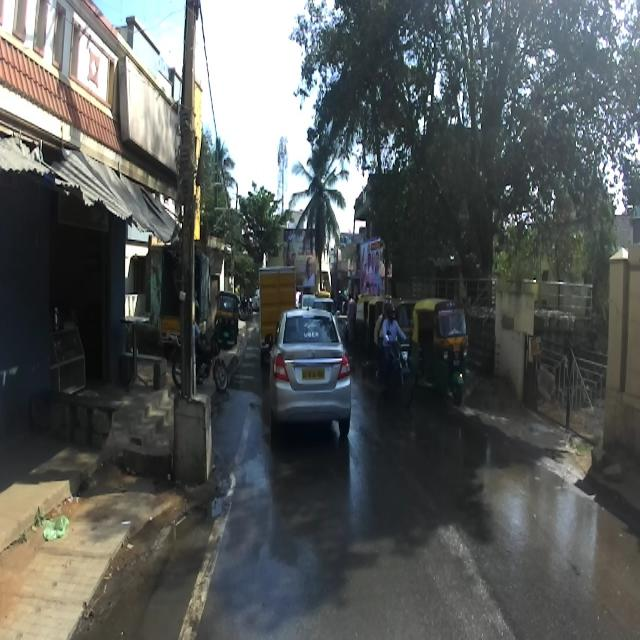autorickshaw: (409, 296, 468, 405)
car: (263, 298, 351, 437)
motorcycle: (172, 316, 230, 392), (374, 331, 414, 406)
